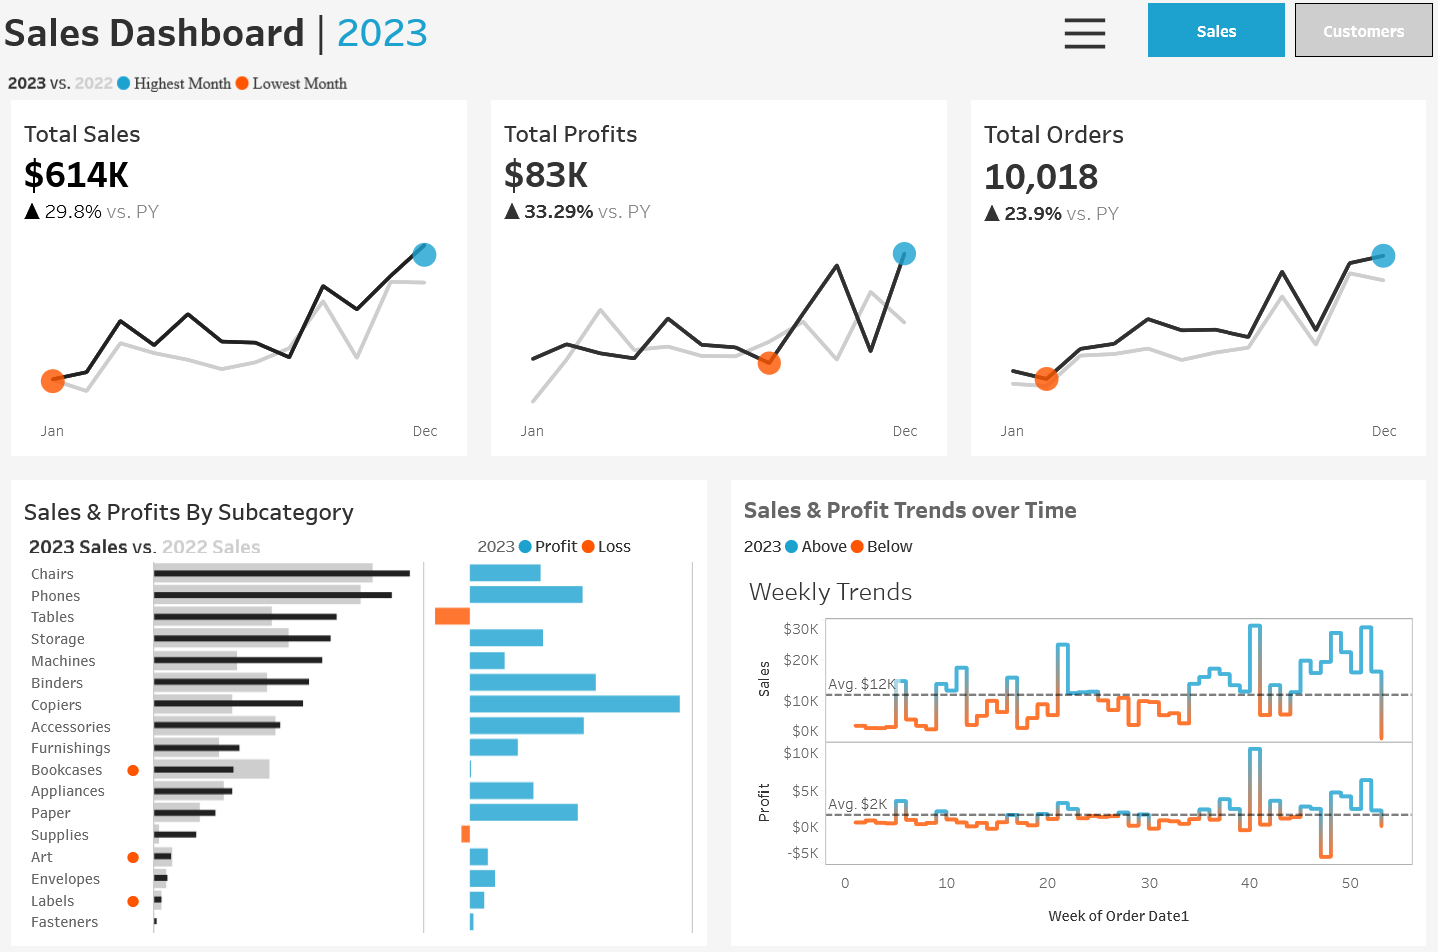

What the dashboard file says about the page in this screenshot:
{"tool":"tableau","page":{"name":"Sales Dash","canvas":[1200,800],"ordinal":1},"visuals":[{"type":"text","box":[0,0,1200,53]},{"type":"blank","box":[950,0,240,85]},{"type":"dashboard-object","box":[860,9,110,53]},{"type":"dashboard-object","box":[970,9,110,53]},{"type":"dashboard-object","box":[1080,9,110,53]},{"type":"worksheet","title":"Legend KPI","mark":"Automatic","box":[0,53,1200,32]},{"type":"worksheet","title":"total sales","mark":"Automatic","rows":["Calculation_1683501875578028037"],"cols":["Order Date"],"box":[0,85,400,306]},{"type":"worksheet","title":"total profit","mark":"Line","rows":["Min/Max Sales (copy)_1683501875591966735"],"cols":["Order Date"],"box":[400,85,400,306]},{"type":"worksheet","title":"total orders","mark":"Automatic","rows":["Min/Max Profit (copy)_1683501876279164958"],"cols":["Order Date"],"box":[800,85,400,306]},{"type":"text","box":[950,85,240,41]},{"type":"parameter","param":"[Parameters].[Parameter 1]","box":[950,126,240,122]},{"type":"text","box":[950,248,240,33]},{"type":"filter","title":"total sales","param":"[federated.1o8q1no1g44w5a1behuv60s9pfwb].[none:Category:nk]","box":[950,281,240,57]},{"type":"filter","title":"total sales","param":"[federated.1o8q1no1g44w5a1behuv60s9pfwb].[none:Sub-Category:nk]","box":[950,338,240,123]},{"type":"text","box":[17,408,566,37]},{"type":"text","box":[617,408,566,40]},{"type":"worksheet","title":"Legend Subcategory","mark":"Automatic","box":[17,445,378,28]},{"type":"text","box":[395,445,188,28]},{"type":"text","box":[617,448,566,29]},{"type":"text","box":[950,461,240,33]},{"type":"worksheet","title":"Subcategory Comparison","mark":"Bar","rows":["Sub-Category","Calculation_1683501875937673239"],"cols":["CY Sales (copy)_1683501875505537026","Calculation_1683501875505057793","CY Sales (copy)_1683501875588677644"],"box":[17,473,566,310]},{"type":"worksheet","title":"Weekly Trends","mark":"Automatic","rows":["Calculation_1683501875505057793","CY Sales (copy)_1683501875588677644"],"cols":["Order Date"],"box":[617,477,566,306]},{"type":"filter","title":"total sales","param":"[federated.1o8q1no1g44w5a1behuv60s9pfwb].[none:Region:nk]","box":[950,494,240,57]},{"type":"filter","title":"total sales","param":"[federated.1o8q1no1g44w5a1behuv60s9pfwb].[none:State/Province:nk]","box":[950,551,240,57]},{"type":"filter","title":"total sales","param":"[federated.1o8q1no1g44w5a1behuv60s9pfwb].[none:City:nk]","box":[950,608,240,57]}]}

Visuals, with their boxes in screenshot pixels (x1, y1, x2, y2), scaled from the page's 1200x800 canvas onto the 1438x952 screenshot:
text: l=0, t=0, r=1437, b=63
blank: l=1138, t=0, r=1426, b=101
dashboard-object: l=1031, t=11, r=1162, b=74
dashboard-object: l=1162, t=11, r=1294, b=74
dashboard-object: l=1294, t=11, r=1426, b=74
"Legend KPI" worksheet: l=0, t=63, r=1437, b=101
"total sales" worksheet: l=0, t=101, r=479, b=465
"total profit" worksheet (Line marks): l=479, t=101, r=959, b=465
"total orders" worksheet: l=959, t=101, r=1437, b=465
text: l=1138, t=101, r=1426, b=150
parameter: l=1138, t=150, r=1426, b=295
text: l=1138, t=295, r=1426, b=334
"total sales" filter: l=1138, t=334, r=1426, b=402
"total sales" filter: l=1138, t=402, r=1426, b=549
text: l=20, t=486, r=699, b=530
text: l=739, t=486, r=1418, b=533
"Legend Subcategory" worksheet: l=20, t=530, r=473, b=563
text: l=473, t=530, r=699, b=563
text: l=739, t=533, r=1418, b=568
text: l=1138, t=549, r=1426, b=588
"Subcategory Comparison" worksheet (Bar marks): l=20, t=563, r=699, b=932
"Weekly Trends" worksheet: l=739, t=568, r=1418, b=932
"total sales" filter: l=1138, t=588, r=1426, b=656
"total sales" filter: l=1138, t=656, r=1426, b=724
"total sales" filter: l=1138, t=724, r=1426, b=791
